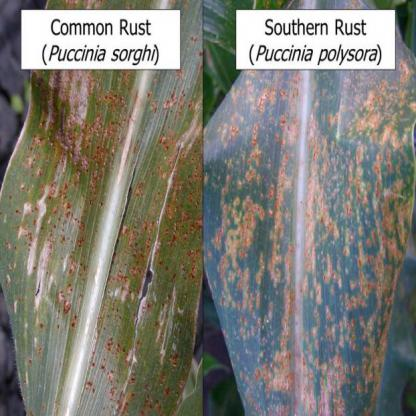Corn rust leaf: (202, 70, 415, 415), (1, 70, 202, 415)
